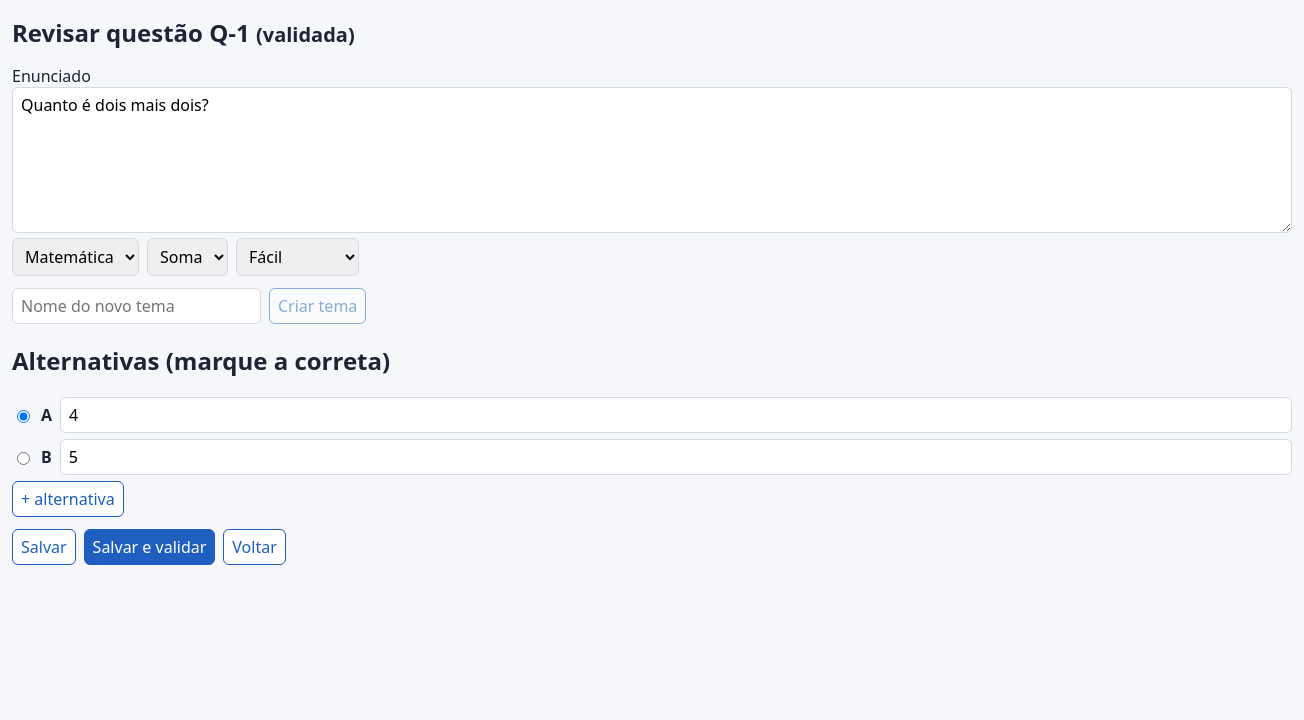
it: Telas React › revisão mostra pendências de validação
Expected: the text box showing "Quanto é dois mais dois?" is shown, [12,87,1292,233]
Click the button "Salvar e validar" at [149, 547], box [84,529,215,565]
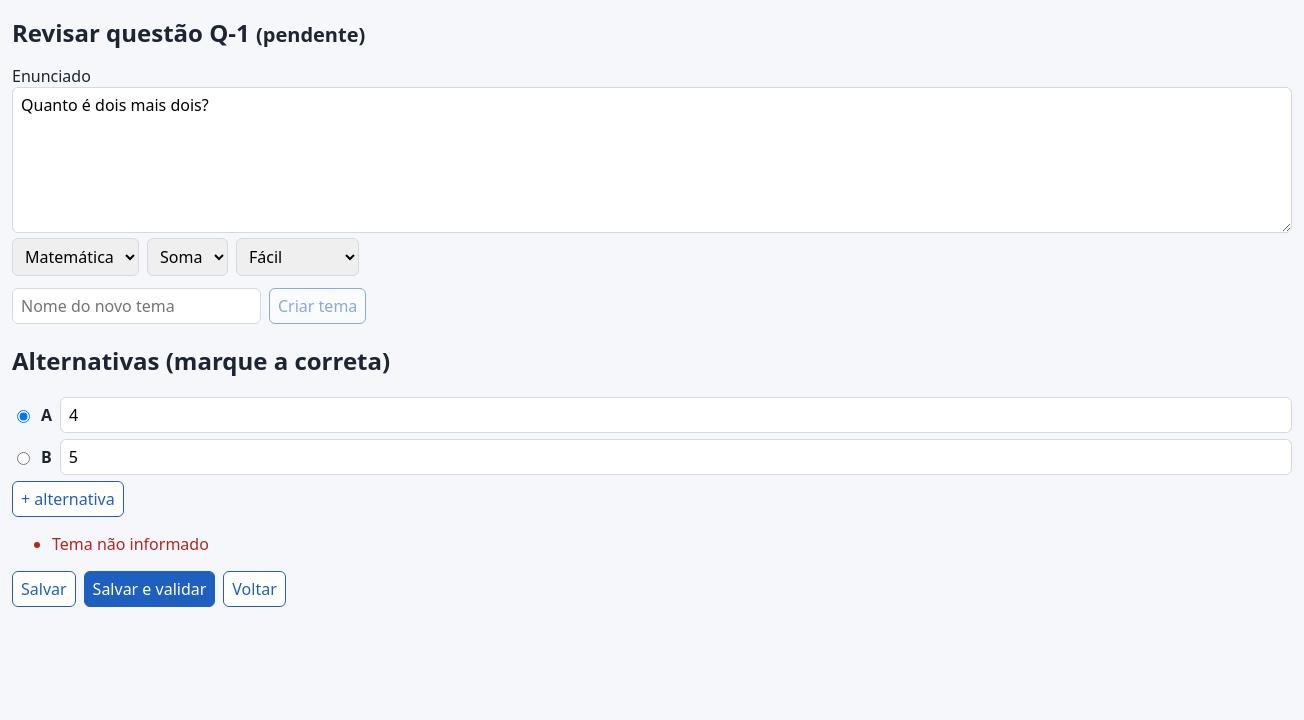
Expected: the list item "Tema não informado" is shown, [52,533,209,555]
